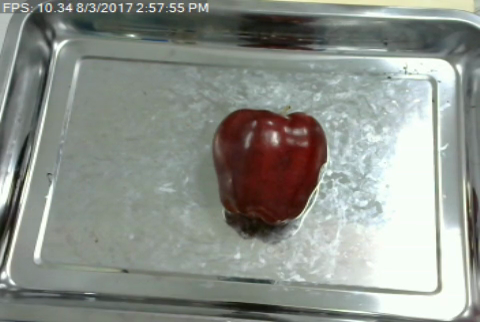Apple: (206, 104, 333, 229)
